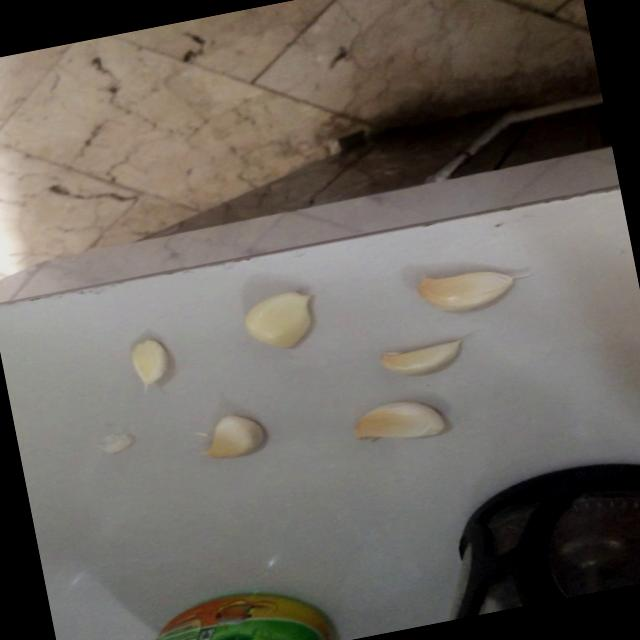garlic: (408, 255, 524, 323), (344, 388, 454, 453), (233, 286, 322, 358), (368, 332, 469, 384), (194, 409, 272, 466), (120, 331, 179, 391)
